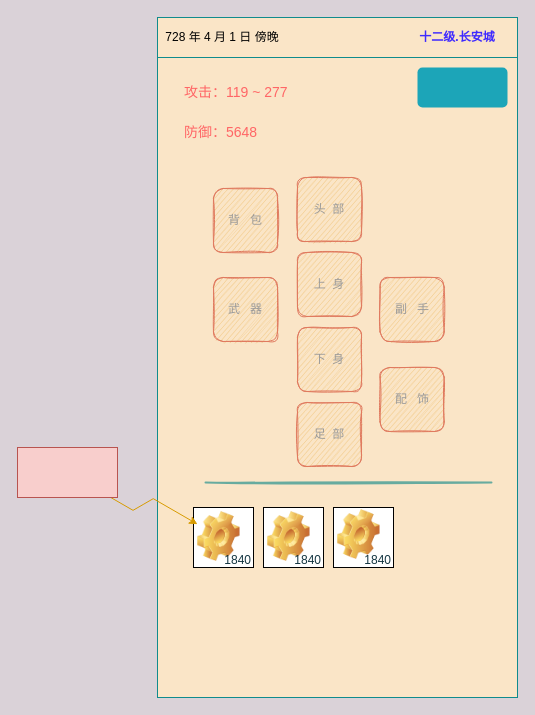
Some shapes in this 535 by 715 pixel diagram are drawn without their labels. Each missing label, with the centre of its shape:
"排序，装备展示在前面，其他物品往后靠" goes at point 67,472.
"返 回" goes at point 462,87.
